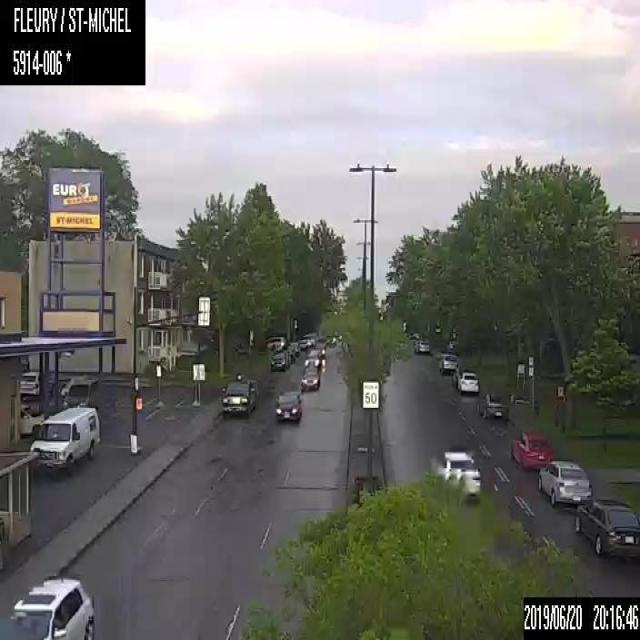vehicle: (1, 574, 94, 638), (30, 402, 100, 473), (572, 496, 638, 564), (534, 459, 591, 510), (509, 428, 553, 471), (442, 449, 481, 495), (61, 377, 102, 413), (222, 379, 255, 417), (273, 387, 303, 420), (18, 402, 44, 437), (16, 367, 44, 398), (478, 392, 508, 420), (300, 365, 322, 391), (456, 370, 479, 392), (436, 353, 459, 373), (269, 351, 286, 371), (265, 334, 286, 350), (304, 347, 322, 365), (413, 337, 429, 352), (285, 344, 295, 364), (280, 348, 290, 366), (288, 340, 300, 354), (296, 337, 306, 349)
